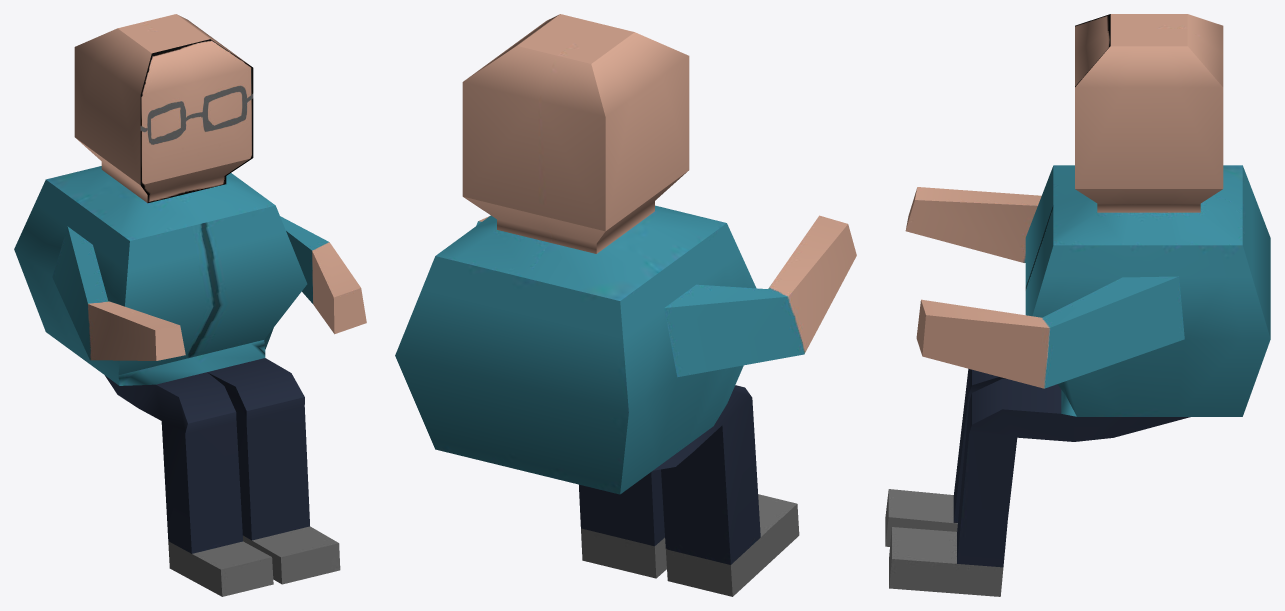
File: Tutor_Guy.fbx
The picture shows the model from 3 angles, left to right: view 1: azimuth 30°, elevation 25°; view 2: azimuth 150°, elevation 25°; view 3: azimuth 270°, elevation 25°; orthographic projection. The views are drawn at different scales.
Parts seen in each view (by area): view 1: Guy; view 2: Guy; view 3: Guy.
Boxes of the visible parts, x1,y1,x2,y2 form: Guy: [14, 14, 366, 596]; Guy: [395, 14, 856, 596]; Guy: [885, 14, 1270, 596].
Size of the model in its own units: 59.82 by 107 by 69.76.
Materials: 1 (1 with a texture image).
